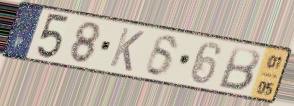5: (33, 11, 74, 61)
6: (144, 34, 181, 78), (189, 41, 223, 87)
8: (69, 21, 103, 65)
B: (215, 44, 261, 93)
K: (107, 25, 147, 74)
